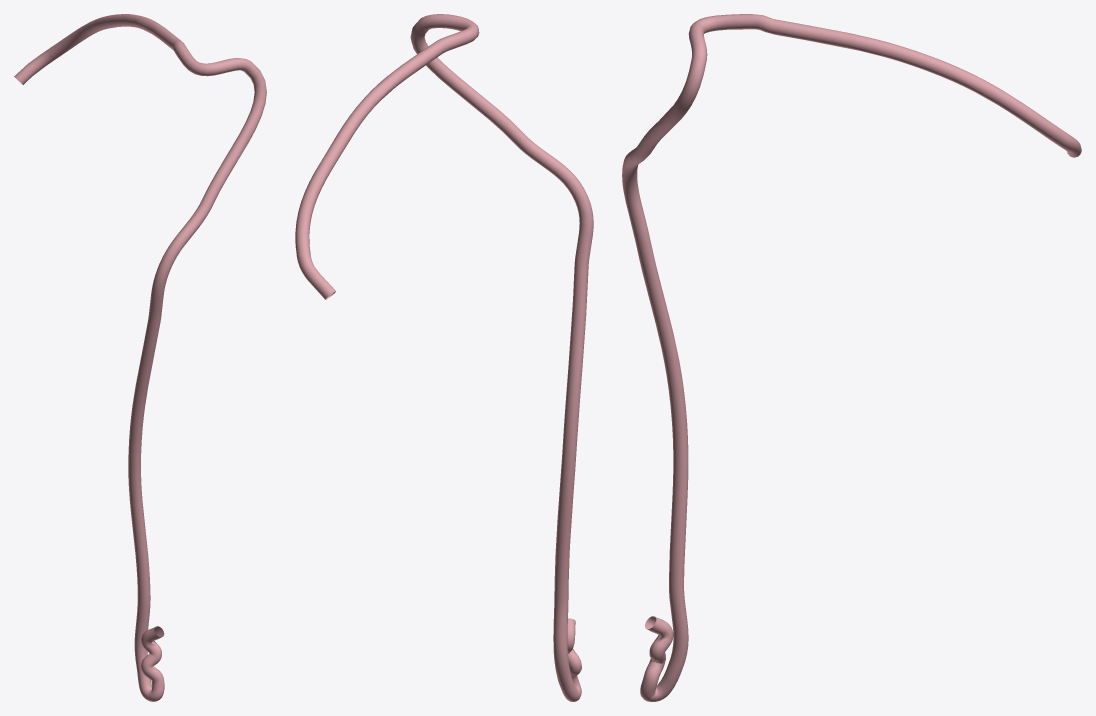
The model's file is visceras-ductus-deferens-l.glb.
3 views of the same model, side by side, from view 1: azimuth 30°, elevation 25°; view 2: azimuth 150°, elevation 25°; view 3: azimuth 270°, elevation 25° (orthographic). The views are drawn at different scales.
Visible parts, largest first — view 1: Ductus deferens.l; view 2: Ductus deferens.l; view 3: Ductus deferens.l.
Boxes of the visible parts, x1,y1,x2,y2 form: Ductus deferens.l: [14, 14, 266, 701]; Ductus deferens.l: [295, 14, 593, 701]; Ductus deferens.l: [622, 14, 1081, 701].
Size of the model in its own units: 0.0388 by 0.1591 by 0.091.
